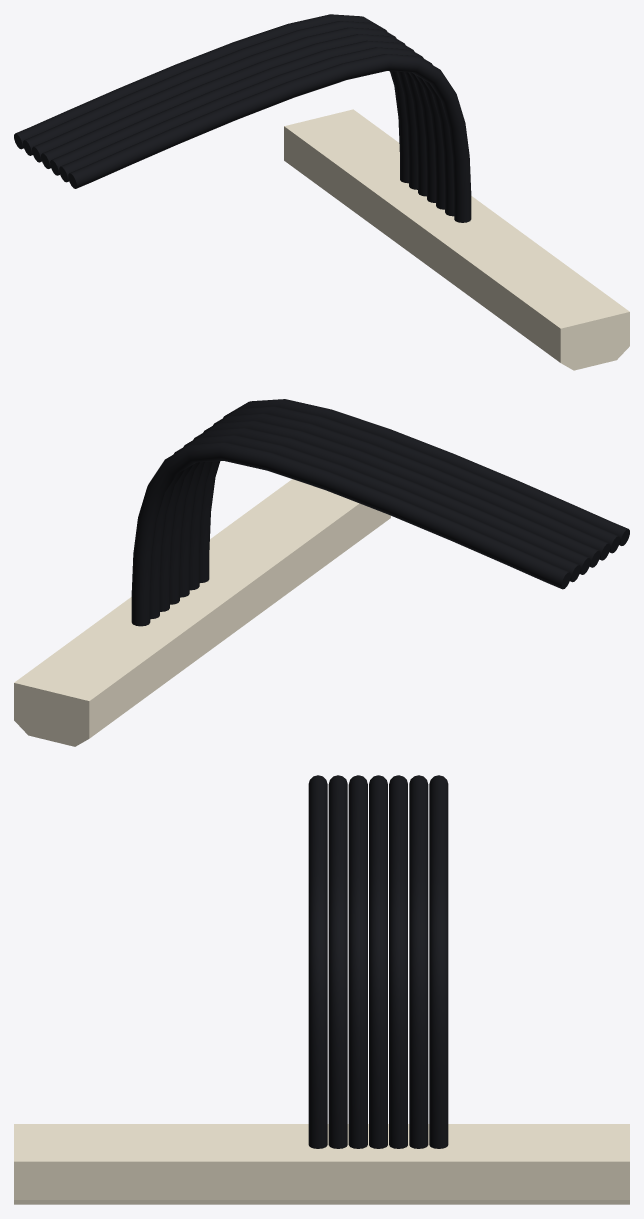
The model's file is SM_cable_connect.fbx.
3 renders of one model, top to bottom at view 1: azimuth 30°, elevation 25°; view 2: azimuth 150°, elevation 25°; view 3: azimuth 270°, elevation 25°, orthographic. The views are drawn at different scales.
Parts seen in each view (by area): view 1: cable_connect; view 2: cable_connect; view 3: cable_connect.
Part boxes in pixels (left/top/right/bottom): cable_connect: left=14, top=14, right=629, bottom=370; cable_connect: left=14, top=399, right=629, bottom=746; cable_connect: left=14, top=775, right=629, bottom=1204.
Size of the model in its own units: 54.6 by 28.35 by 61.97.
